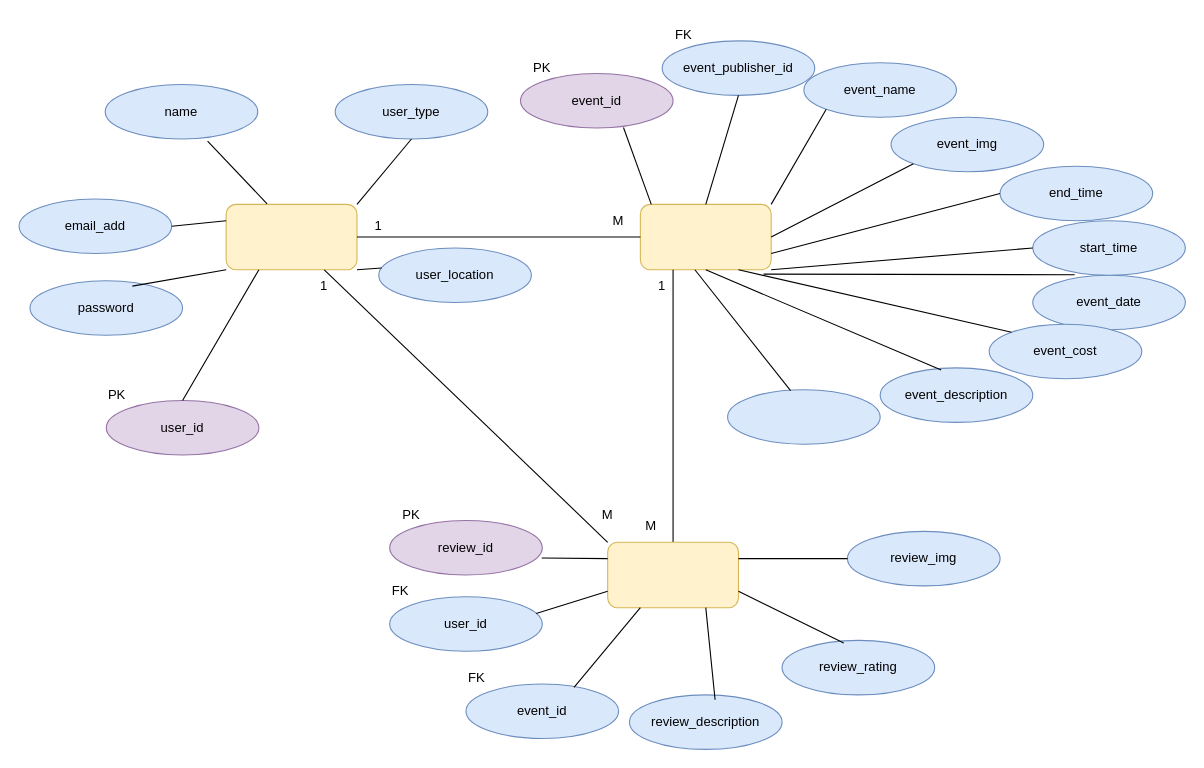
Some shapes in this 1204 by 768 pixel diagram are drawn without their labels. The box of each missing label's shape, as (x1, y1, x2, y2) in pixels:
Event: (639, 203, 771, 270)
event_location: (726, 389, 880, 444)
Reviews: (607, 541, 738, 608)
User: (225, 203, 357, 270)
